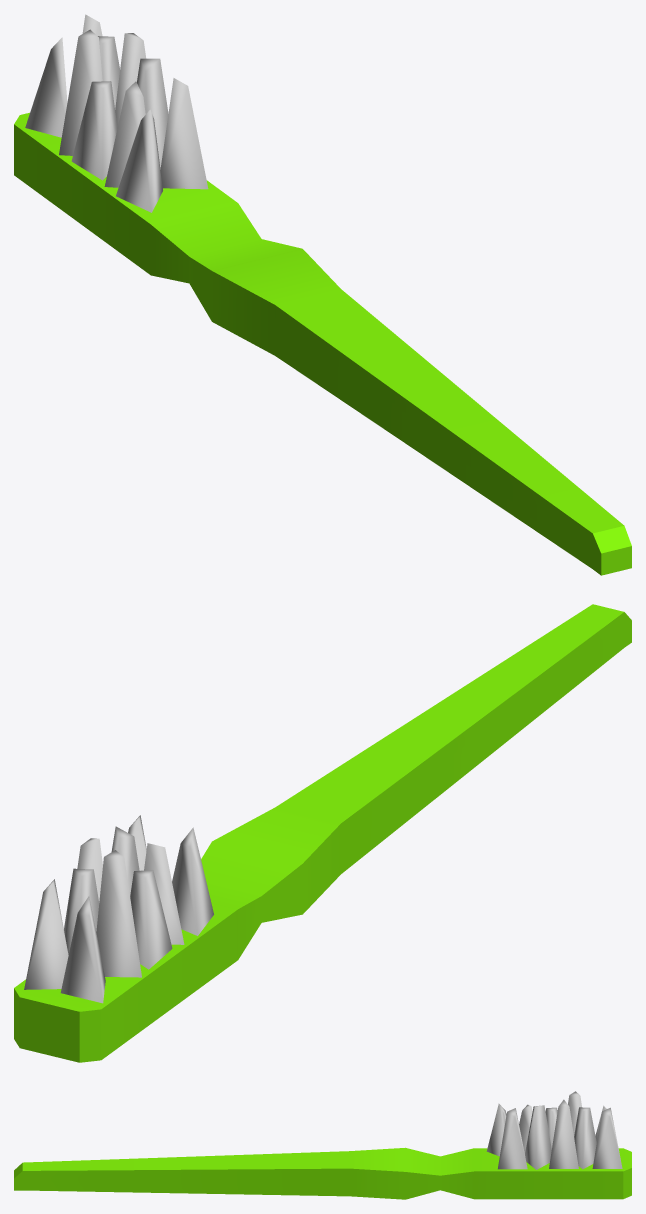
The model's file is Toothbrush_E.FBX.
3 views of the same model, one above another, from view 1: azimuth 30°, elevation 25°; view 2: azimuth 150°, elevation 25°; view 3: azimuth 270°, elevation 25° (orthographic). The views are drawn at different scales.
Parts seen in each view (by area): view 1: Tooth_Brush_01; view 2: Tooth_Brush_01; view 3: Tooth_Brush_01.
Part boxes in pixels (x1,y1,x2,y2): Tooth_Brush_01: (14,14,631,575); Tooth_Brush_01: (14,604,631,1062); Tooth_Brush_01: (14,1091,631,1199).
Bounding box in the file's own units: 6.59 × 11.67 × 71.32.
